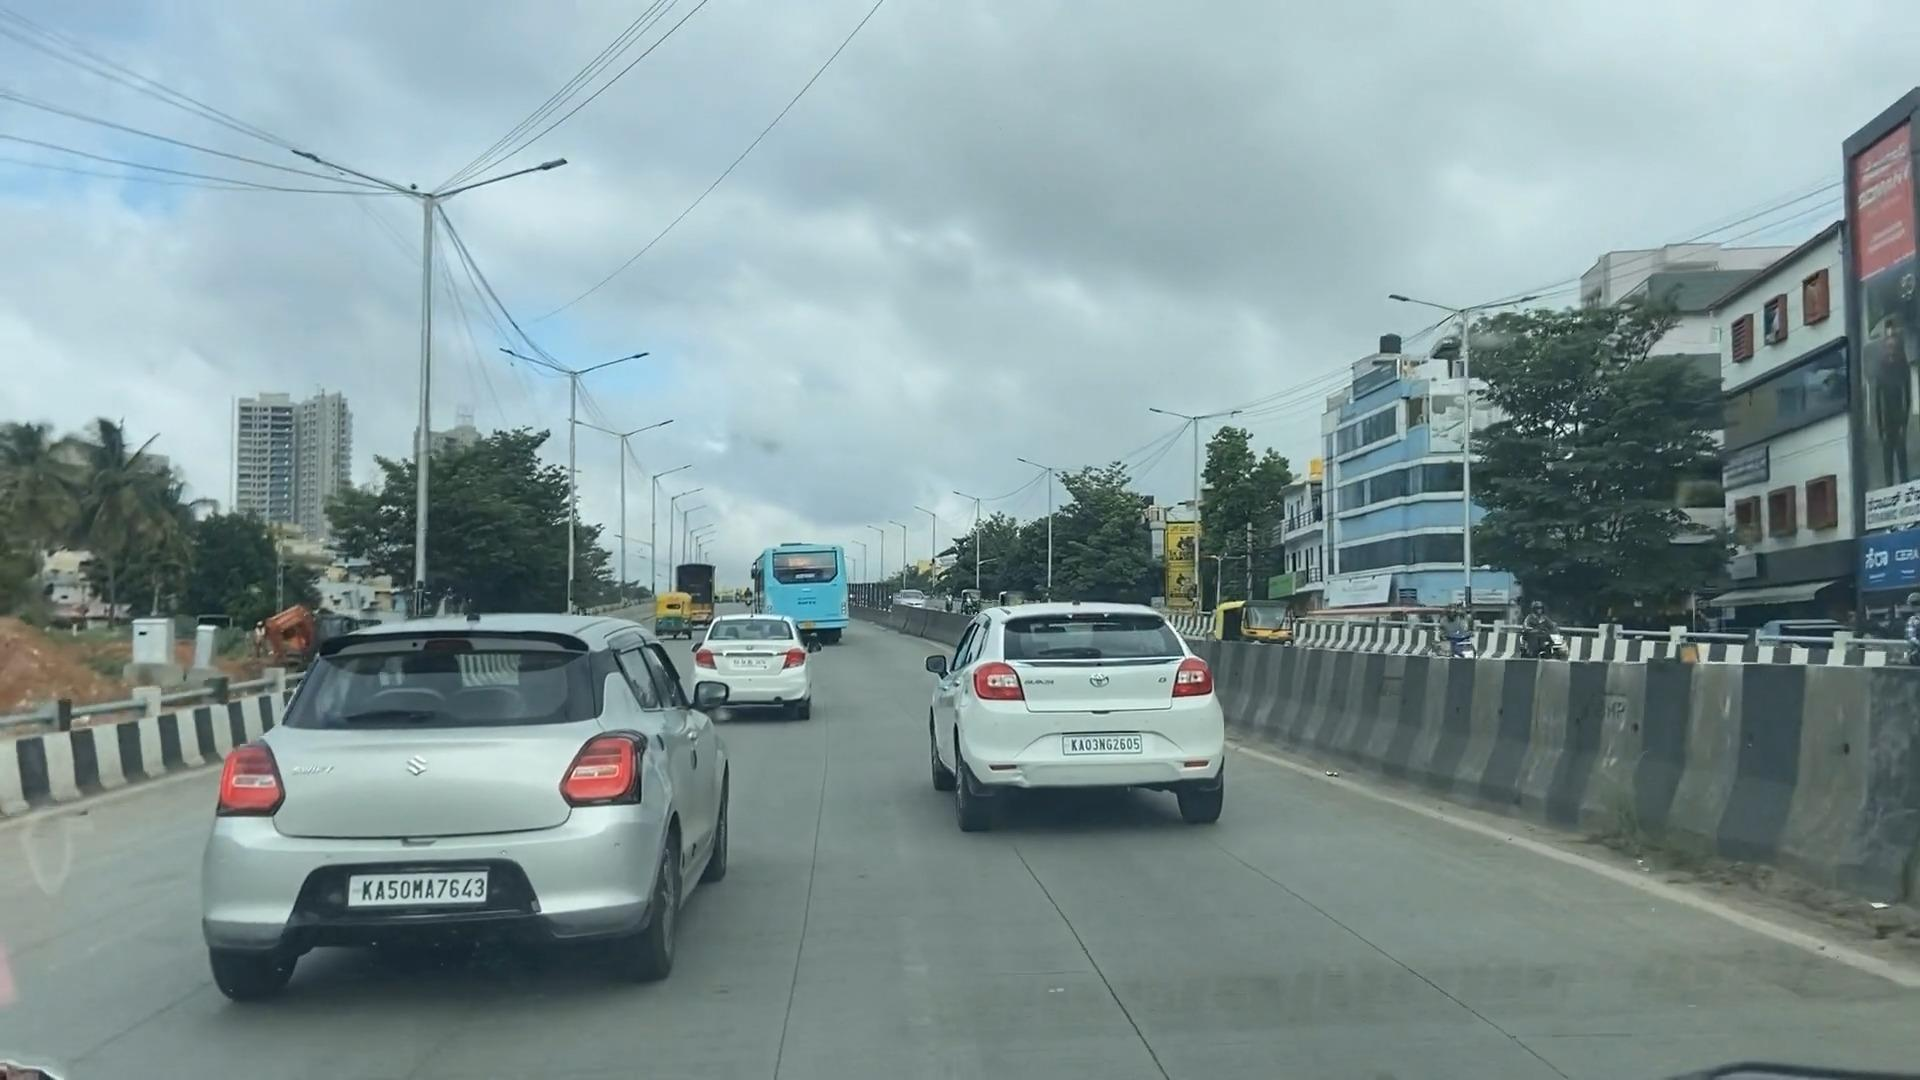HMV: (736, 501, 864, 665)
LMV: (145, 539, 750, 1059), (914, 589, 1246, 862), (663, 584, 820, 738)
